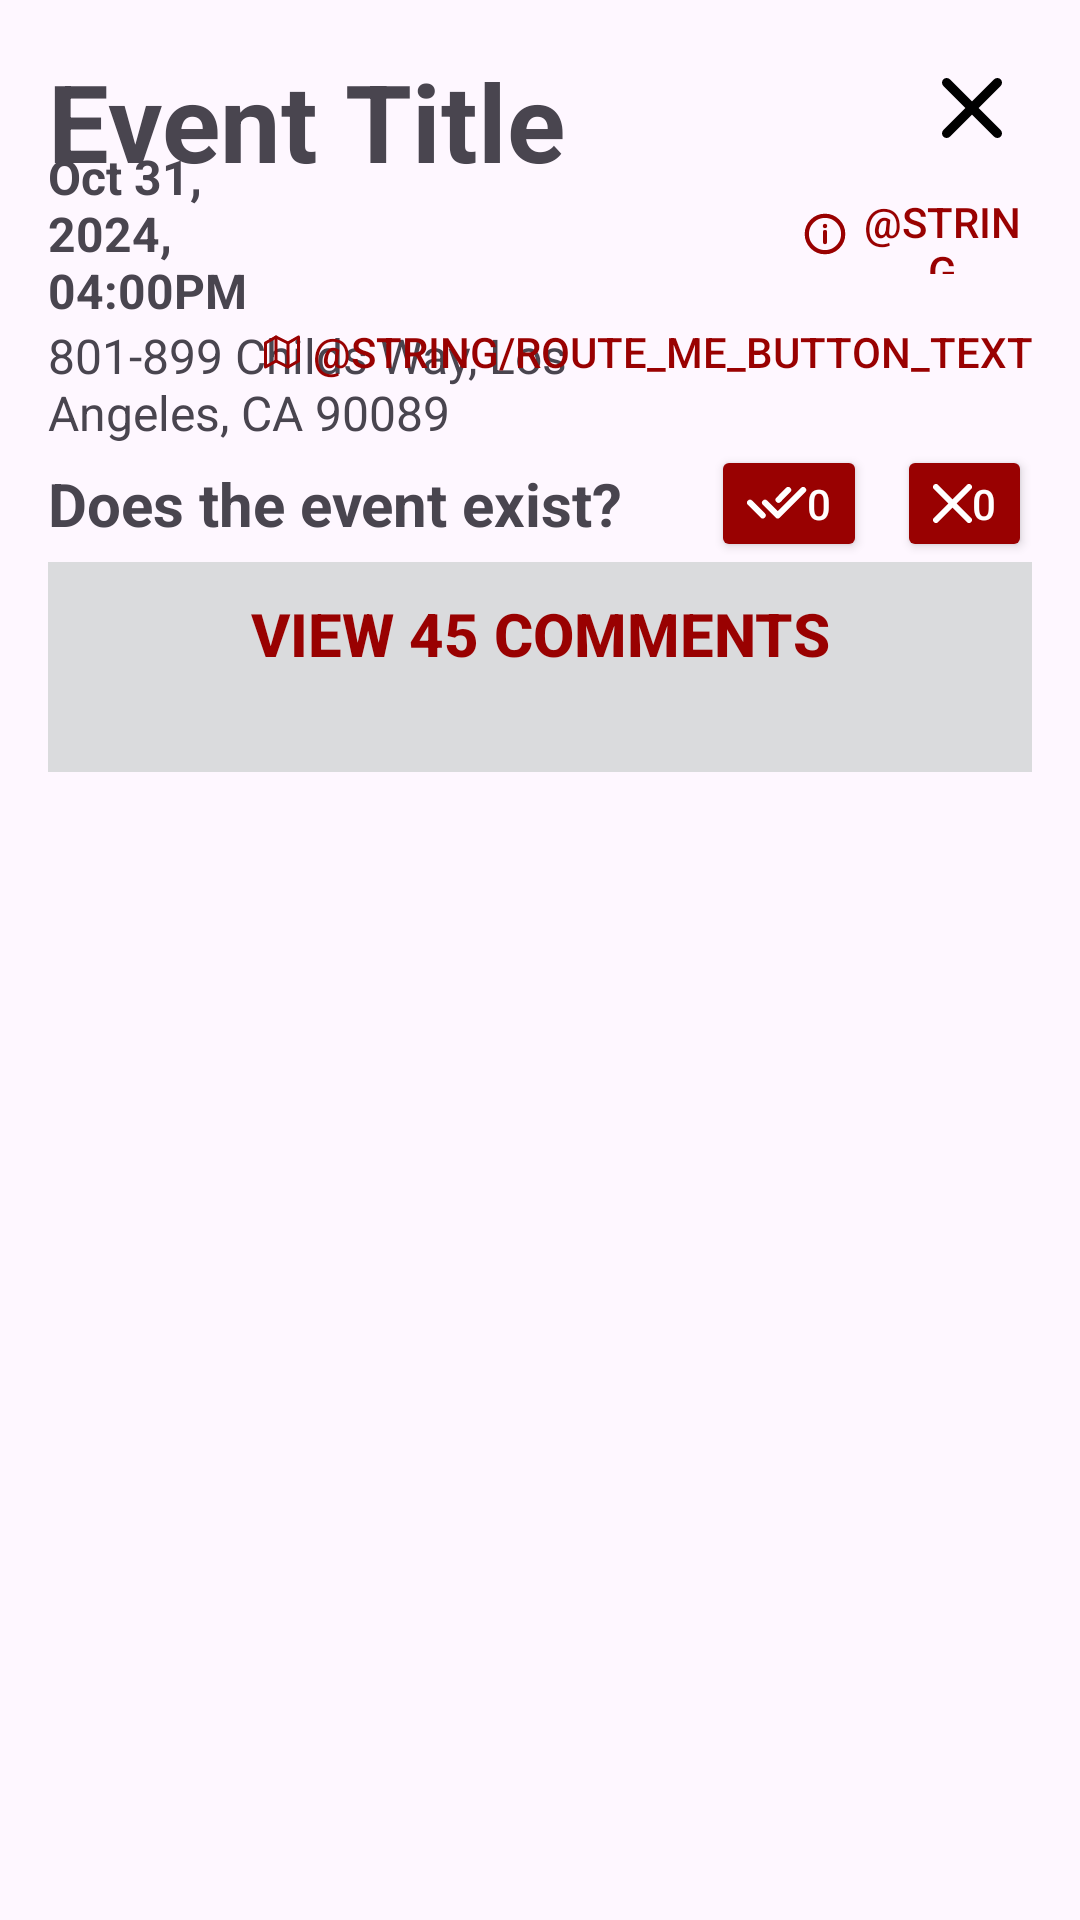

Screen size 1080px×1920px. Icon name, then its center in pixels as [x,y]:
info: [825,234]
map: [282,354]
